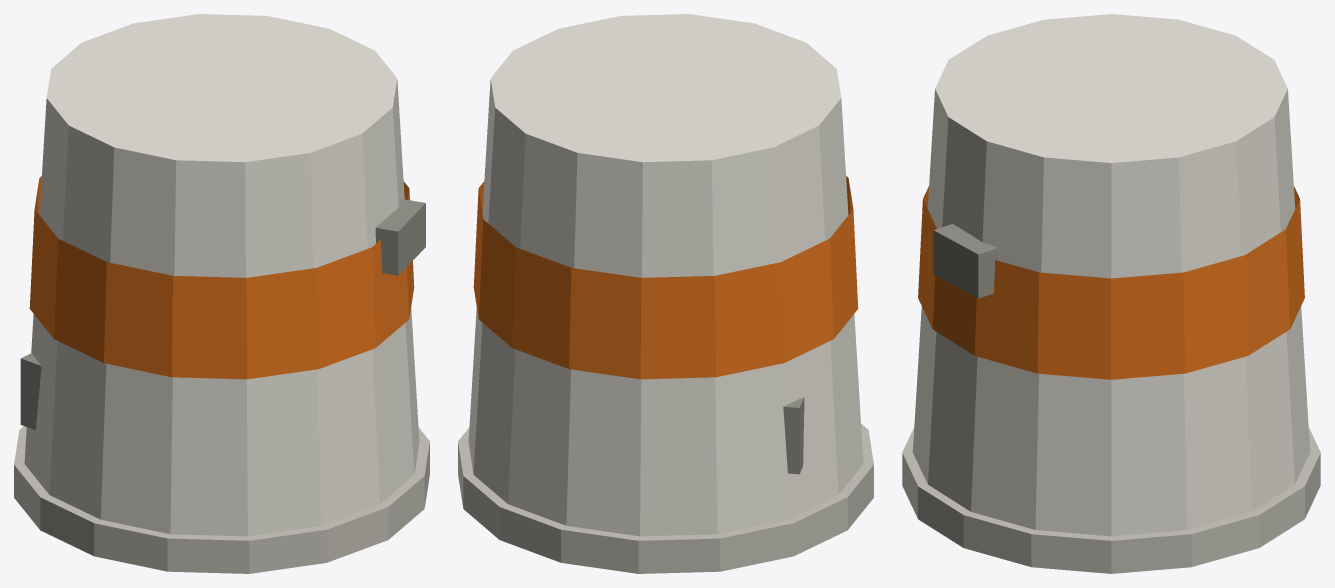
Rendered from Bucket.obj.
3 views of the same model, side by side, from view 1: azimuth 30°, elevation 25°; view 2: azimuth 150°, elevation 25°; view 3: azimuth 270°, elevation 25° (orthographic).
Parts seen in each view (by area): view 1: Bucket; view 2: Bucket; view 3: Bucket.
Part boxes in pixels (box(x1,y1,x2,y2)): Bucket: box(14, 14, 429, 573); Bucket: box(458, 14, 873, 573); Bucket: box(902, 14, 1320, 573).
Bounding box in the file's own units: 0.344 × 0.36 × 0.344.
1 material, 1 textured.
